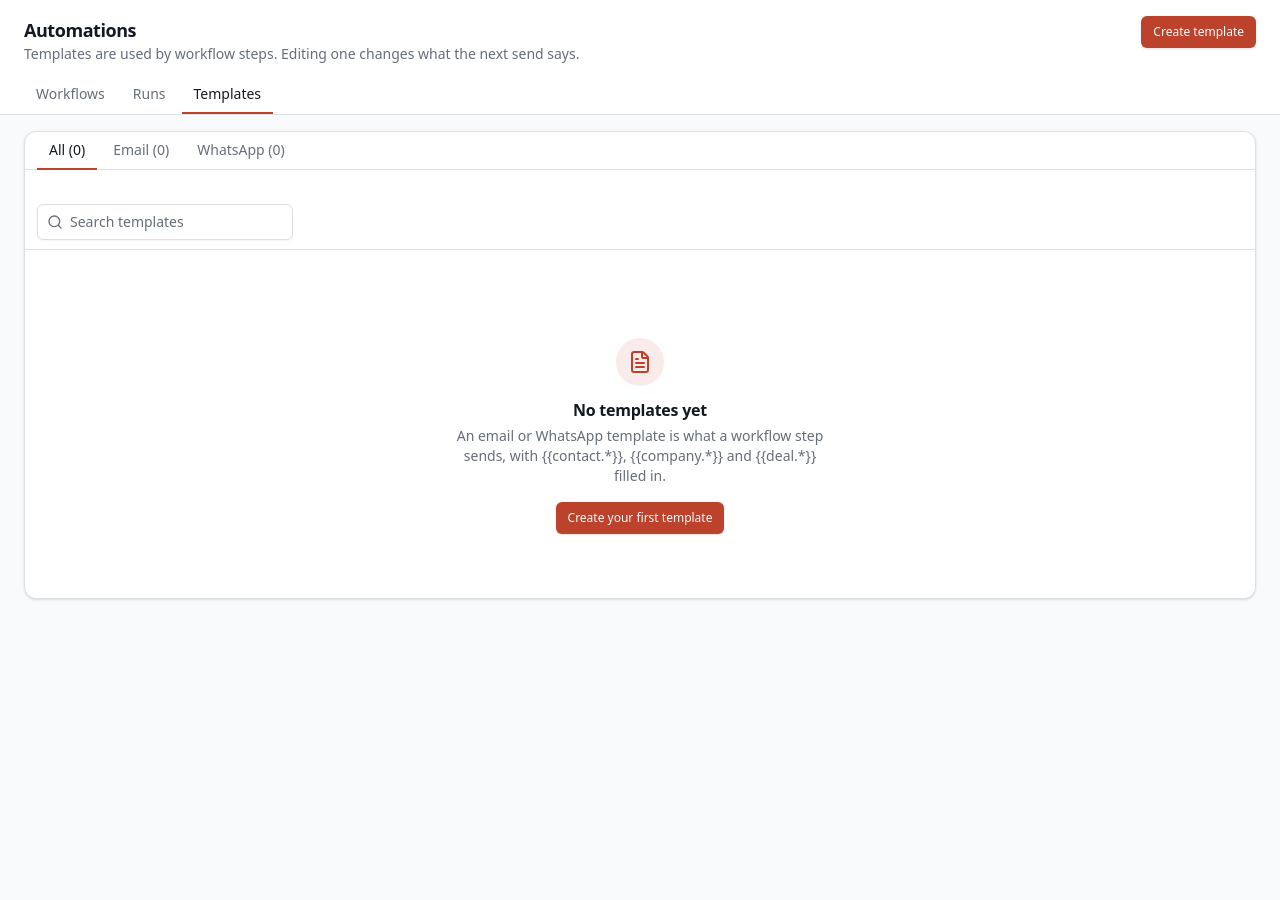
it: TemplatesPage › groups the variable picker as Contact / Company / Deal / Meeting / Date
Click the button "Create template" at x=1199, y=32, box [1141,16,1256,48]
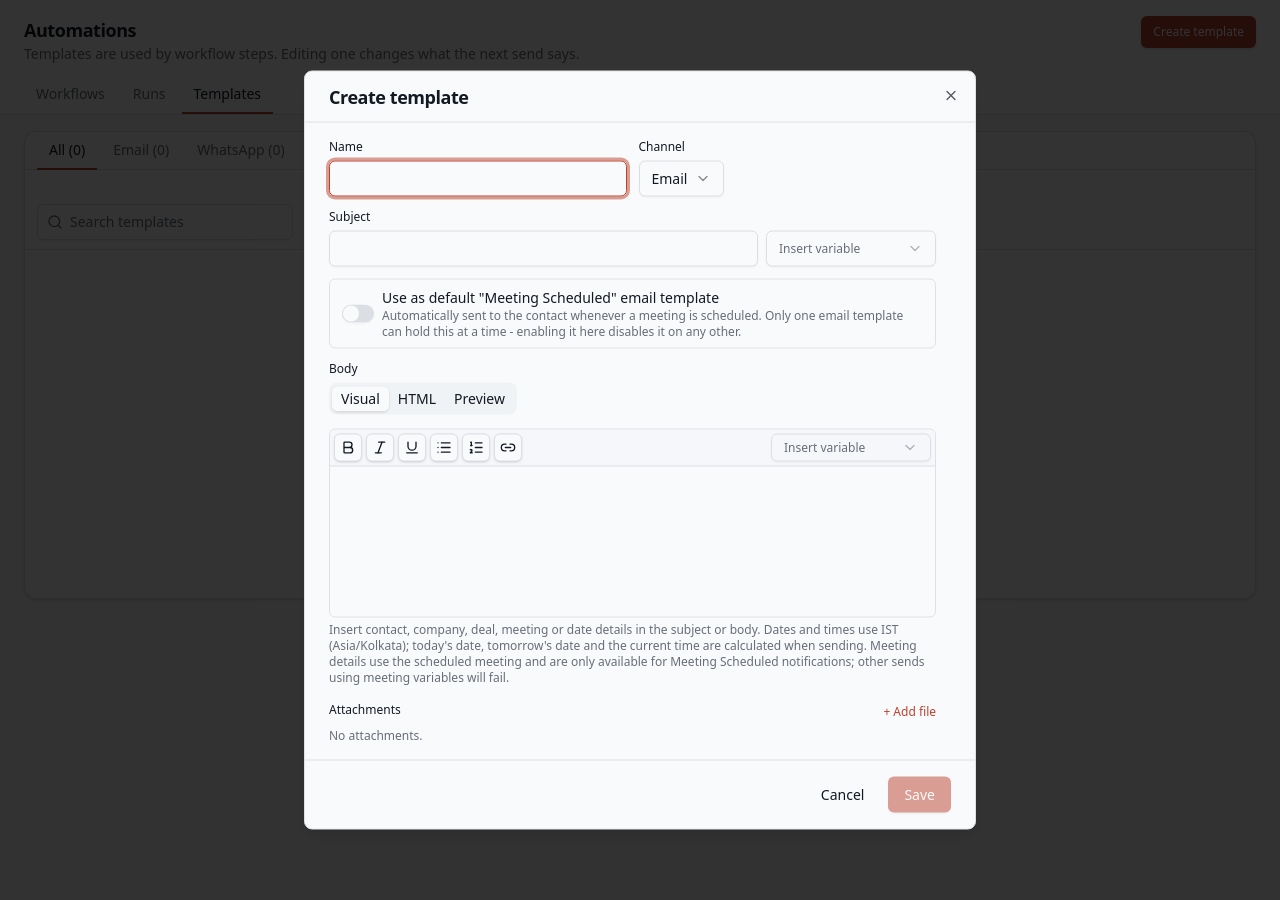
Press ArrowDown in the dropdown named "Insert subject variable", box [766,230,936,266]
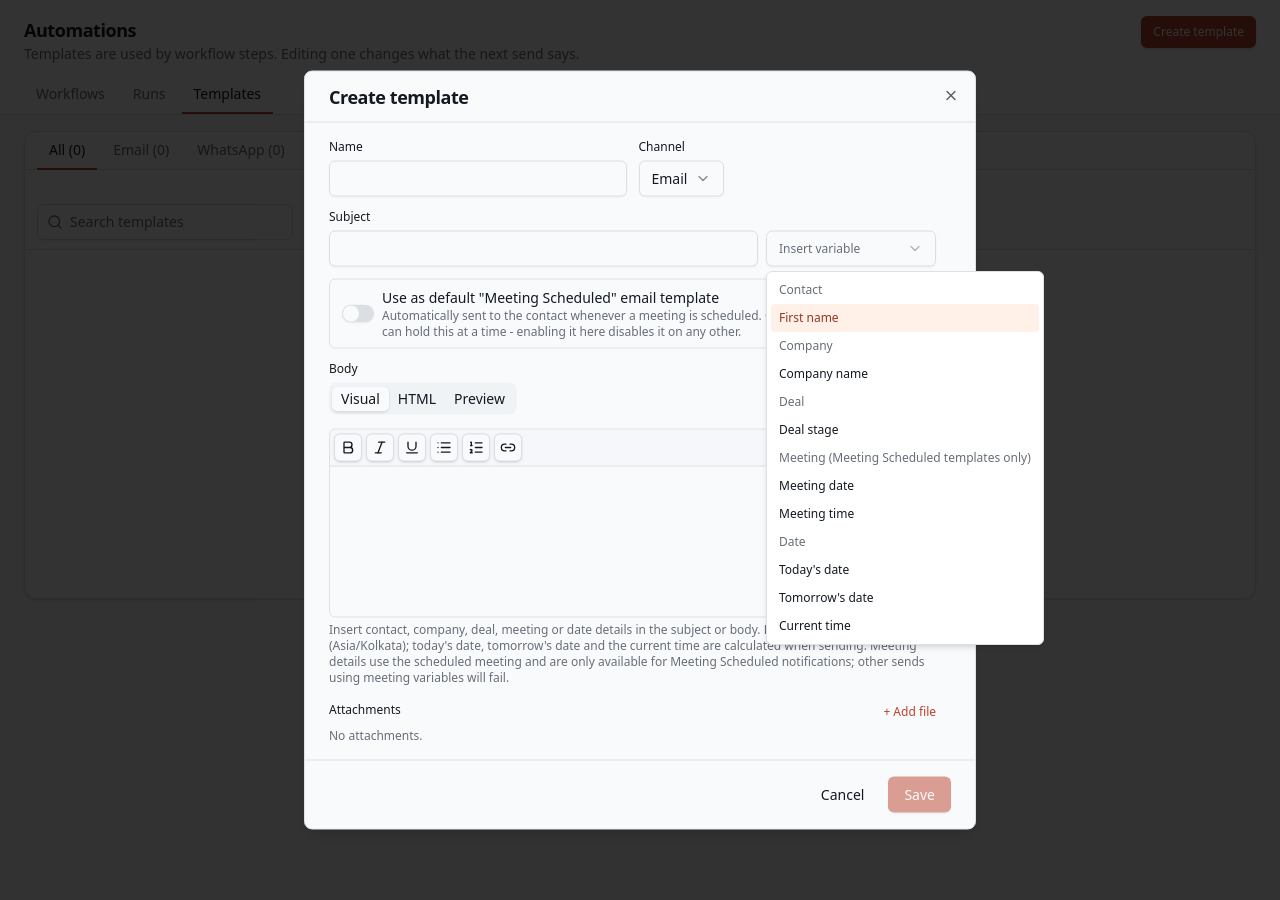
Expected: the option "First name" is shown, [771,304,1039,332]
Expected: the text "Contact" is shown, [779,281,822,298]
Expected: the text "Company" is shown, [779,337,833,354]
